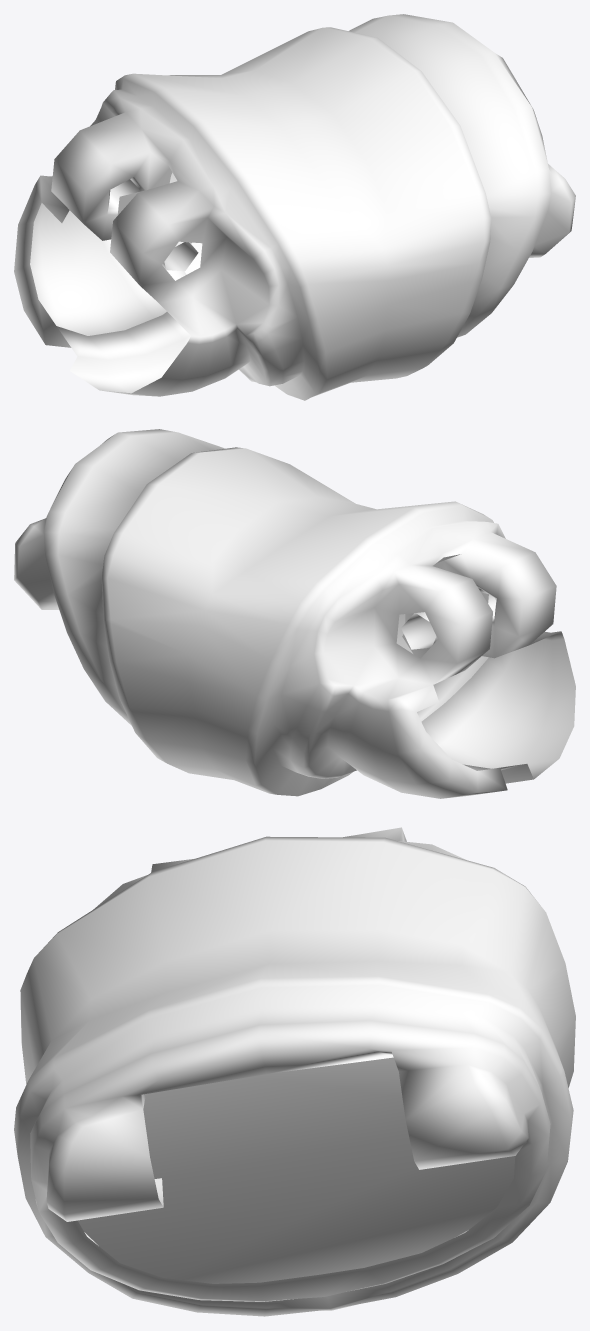
The model's file is LFinger12.dae.
3 renders of one model, top to bottom at view 1: azimuth 30°, elevation 25°; view 2: azimuth 150°, elevation 25°; view 3: azimuth 270°, elevation 25°, orthographic. The views are drawn at different scales.
Parts seen in each view (by area): view 1: LFinger12; view 2: LFinger12; view 3: LFinger12.
Boxes of the visible parts, x1,y1,x2,y2 form: LFinger12: [14, 14, 575, 400]; LFinger12: [14, 429, 575, 798]; LFinger12: [14, 827, 575, 1316].
Bounding box in the file's own units: 194 × 160 × 119.
Materials: 1 (1 with a texture image).
